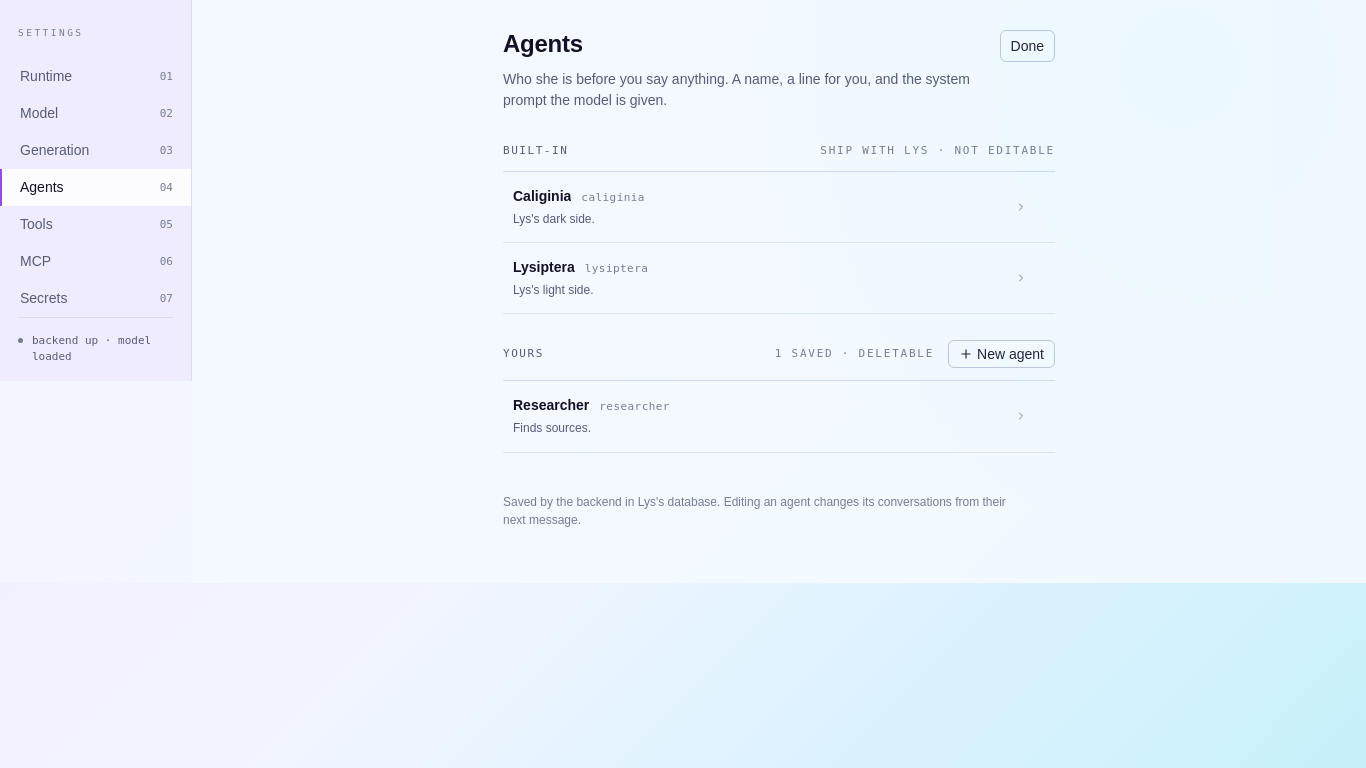
Test: AgentEditor › a stored agent › shows the stored fields, without a code field, and saves nothing until changed
Expected: the text "Saved by the backend in Lys's database" is shown, top-left (503, 495), bottom-right (1006, 527)
What coordinates should you click on to do the following:
click the button "Researcher researcher Finds sources."
I would click on:
 (551, 405)
Its box is top-left (503, 381), bottom-right (1055, 452).
(page scrolled)
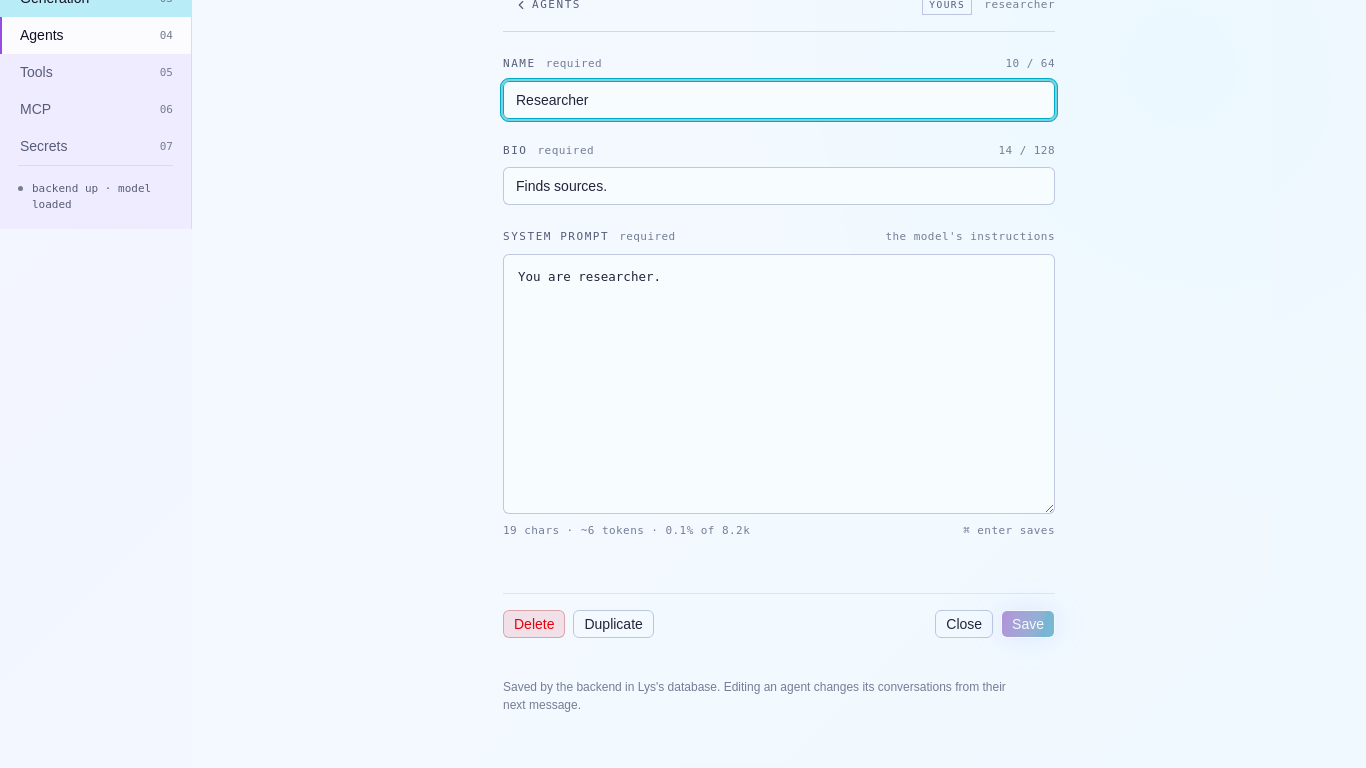
Result: the field labelled "name" holds "Researcher" at top-left (503, 80), bottom-right (1055, 118)
Result: the field labelled "bio" holds "Finds sources." at top-left (503, 167), bottom-right (1055, 205)
Result: the text box labelled "system prompt" holds "You are researcher." at top-left (503, 254), bottom-right (1055, 514)
